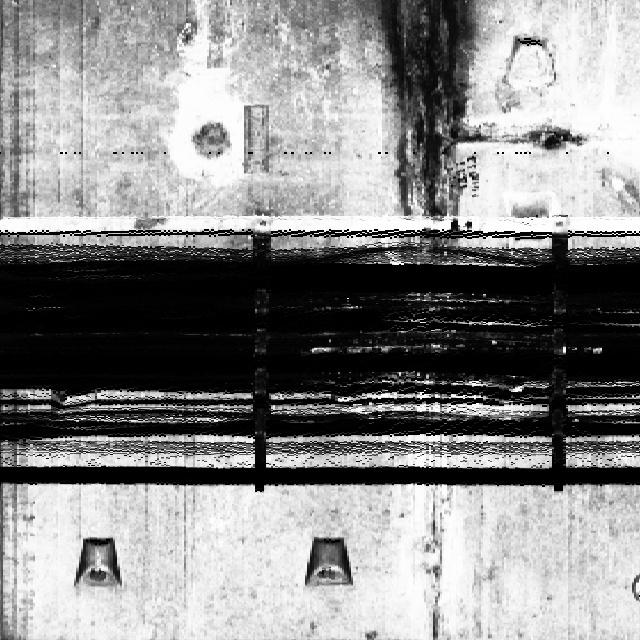leakage: (362, 0, 488, 254)
